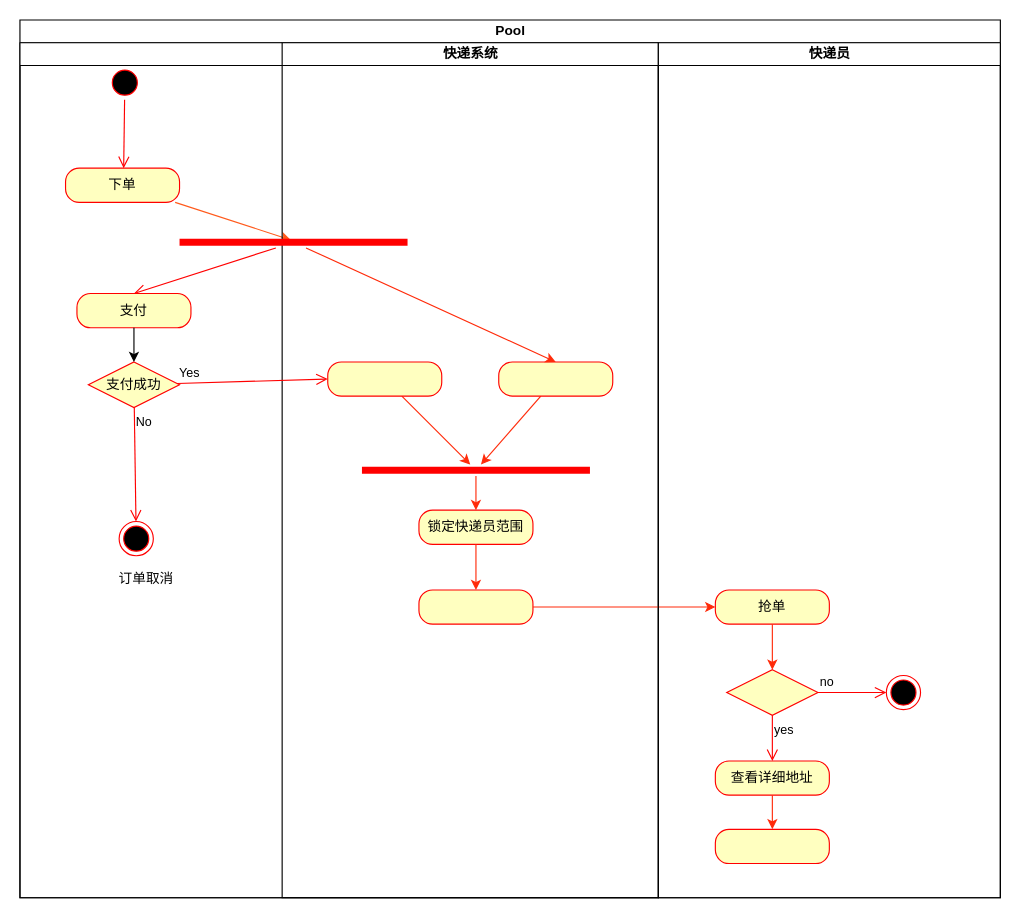
Some shapes in this 1020 by 918 pixel diagram are drawn without their labels. The box of each missing label's shape, as (x1, y1, x2, y2) in pixels:
发送通知: (418, 589, 533, 624)
抢单成功？: (726, 669, 818, 715)
收件: (714, 828, 829, 864)
收款: (327, 361, 442, 396)
生成快递单: (498, 361, 613, 396)
